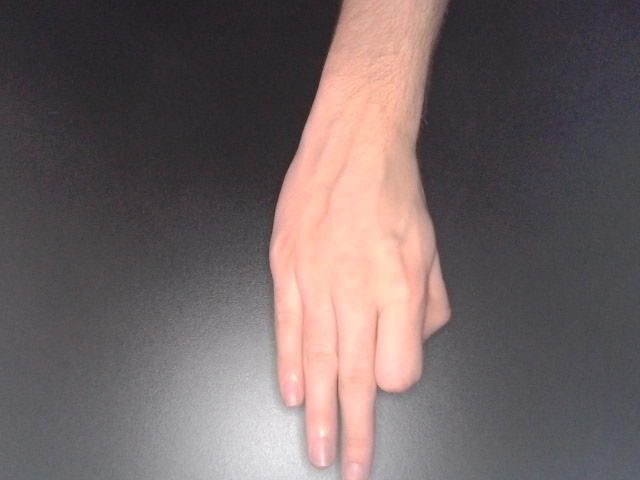m: (255, 104, 461, 480)
